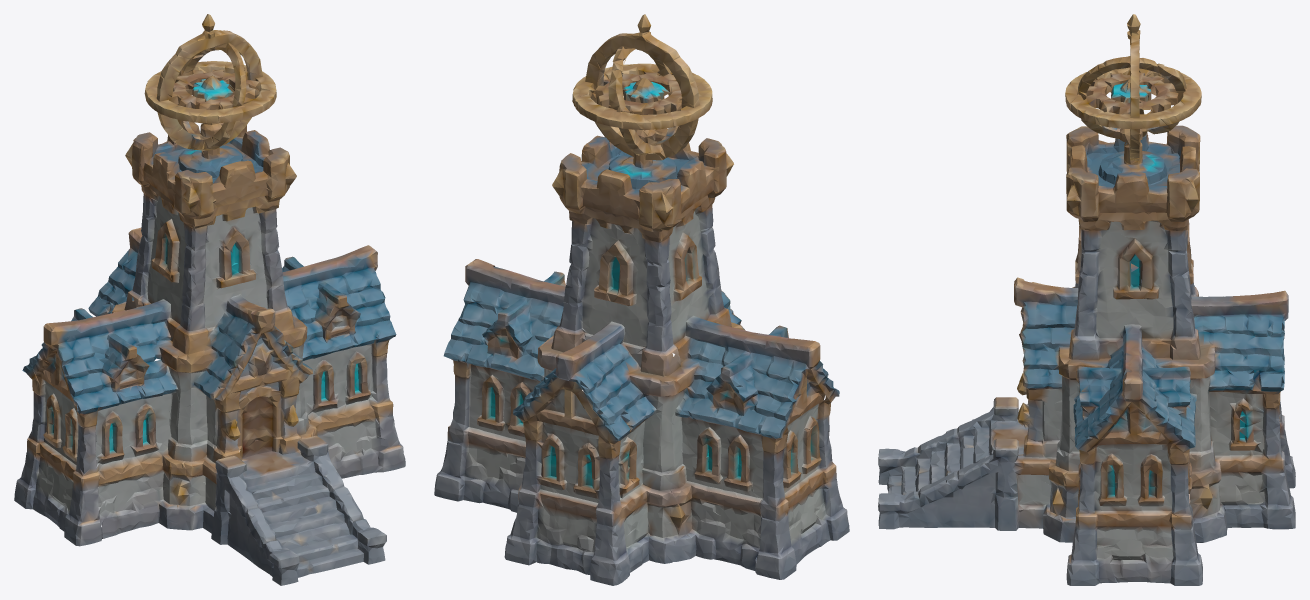
The model's file is building_grand_academy_lod1.glb.
3 renders of one model, left to right at view 1: azimuth 30°, elevation 25°; view 2: azimuth 150°, elevation 25°; view 3: azimuth 270°, elevation 25°, orthographic. The views are drawn at different scales.
Parts seen in each view (by area): view 1: world; view 2: world; view 3: world.
Part boxes in pixels (x1,y1,x2,y2): world: [14, 14, 405, 585]; world: [434, 14, 849, 585]; world: [878, 14, 1295, 585].
Bounding box in the file's own units: 1.39 × 1.9 × 1.47.
